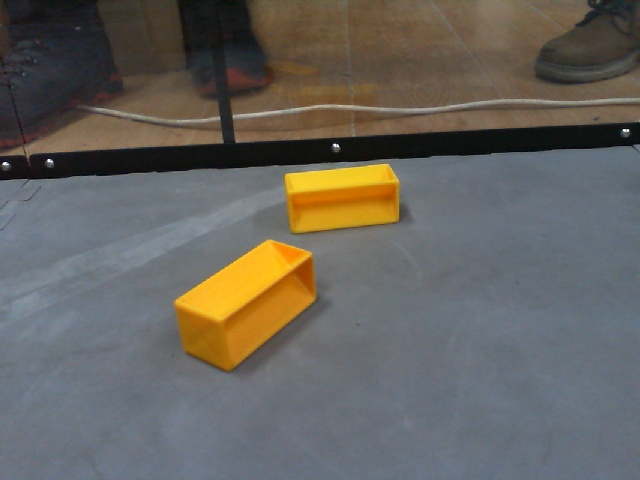YellowSample: (172, 235, 322, 372), (282, 163, 408, 237)
